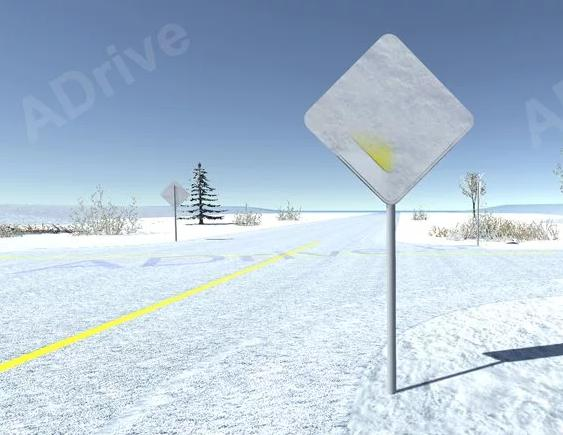obstructed_road_sign: (306, 34, 473, 204)
